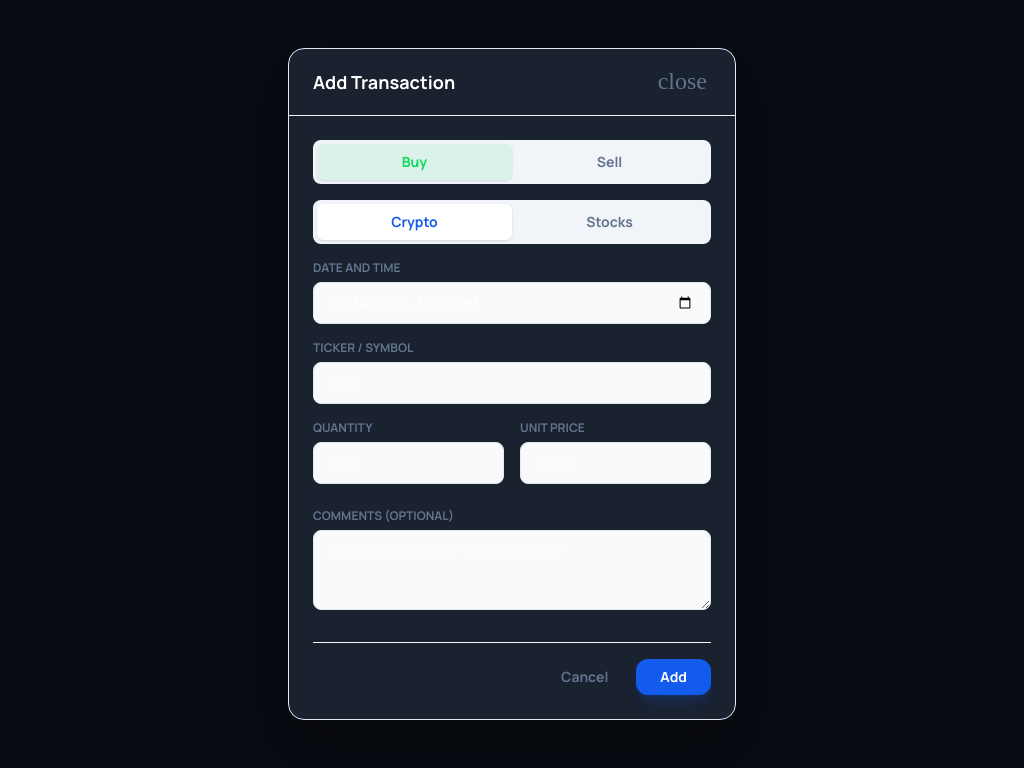
Scenario: AddTransactionModal › limits the quantity to 8 decimals
Type "0.123456789" into the number field with placeholder "0.00" at (408, 463), box [313,442,504,484]
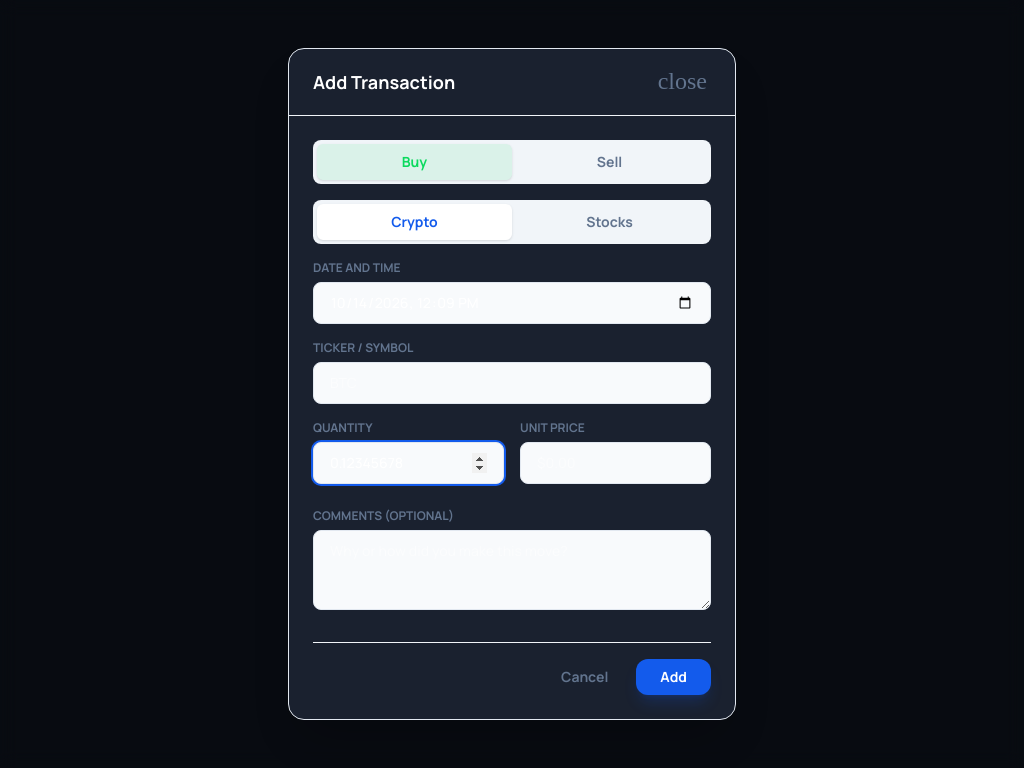
Expected: the number field with placeholder "0.00" holds "0.12345678", [313,442,504,484]
